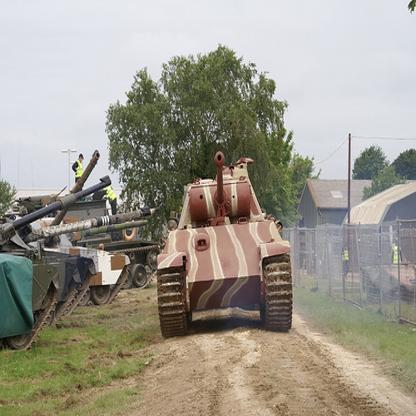Tank: (154, 149, 301, 344)
